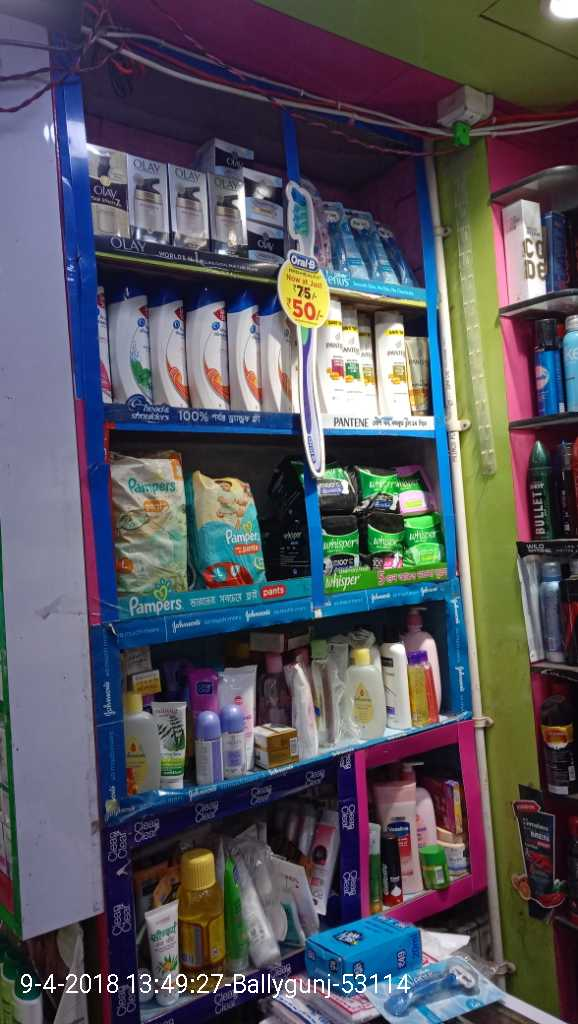gillete: (385, 832, 402, 906)
venus: (325, 200, 352, 273), (380, 223, 409, 282), (352, 211, 377, 273)
